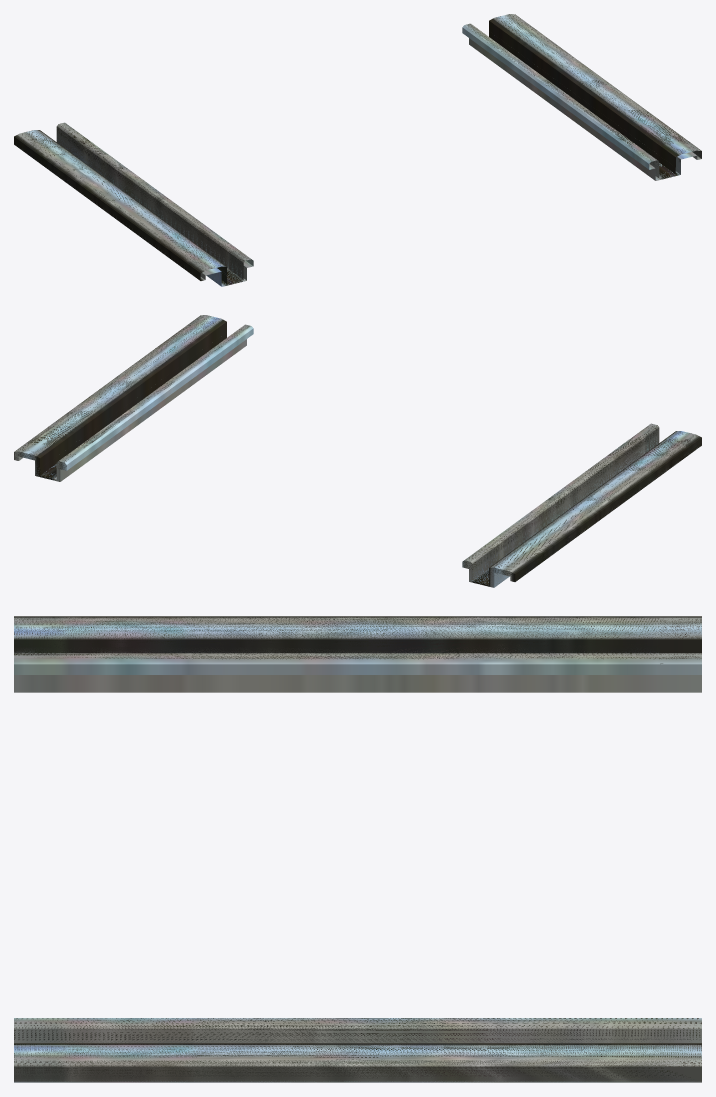
Rendered from sunked.obj.
The picture shows the model from 3 angles, top to bottom: view 1: azimuth 30°, elevation 25°; view 2: azimuth 150°, elevation 25°; view 3: azimuth 270°, elevation 25°; orthographic projection. The views are drawn at different scales.
Visible parts, largest first — view 1: r2_ID134, r1_ID274; view 2: r2_ID134, r1_ID274; view 3: r1_ID274, r2_ID134.
Part boxes in pixels (x1=…): r2_ID134: x1=462, y1=14, x2=701, y2=180; r1_ID274: x1=14, y1=122, x2=253, y2=286; r2_ID134: x1=14, y1=315, x2=253, y2=481; r1_ID274: x1=462, y1=423, x2=701, y2=587; r1_ID274: x1=14, y1=616, x2=701, y2=692; r2_ID134: x1=14, y1=1018, x2=701, y2=1082.
Size of the model in its own units: 1.68 by 0.0656 by 1.09.
Materials: 1 (1 with a texture image).
